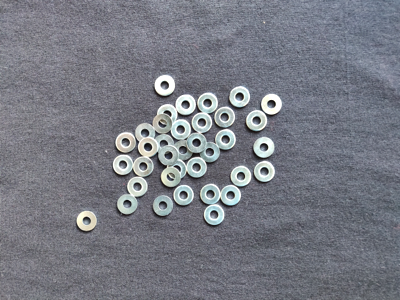circle: (252, 136, 276, 159), (261, 94, 285, 117), (137, 137, 160, 159), (154, 75, 177, 97), (254, 162, 276, 184), (134, 156, 156, 178), (214, 107, 236, 129), (229, 86, 251, 108), (115, 194, 138, 215), (115, 132, 138, 153), (157, 104, 180, 125), (152, 195, 173, 217), (220, 186, 242, 207), (161, 167, 182, 189), (187, 157, 208, 179), (158, 145, 179, 167), (173, 140, 194, 162), (216, 130, 237, 152), (112, 154, 133, 176), (134, 123, 156, 144), (171, 119, 192, 141), (175, 94, 196, 116), (191, 113, 213, 134), (246, 111, 268, 132), (198, 93, 220, 114), (231, 167, 252, 188), (167, 159, 188, 180), (128, 177, 149, 198), (152, 114, 173, 135), (76, 210, 96, 232), (203, 206, 225, 226), (199, 144, 221, 164), (187, 133, 207, 154), (174, 186, 194, 206), (201, 185, 221, 205), (154, 135, 174, 155)
